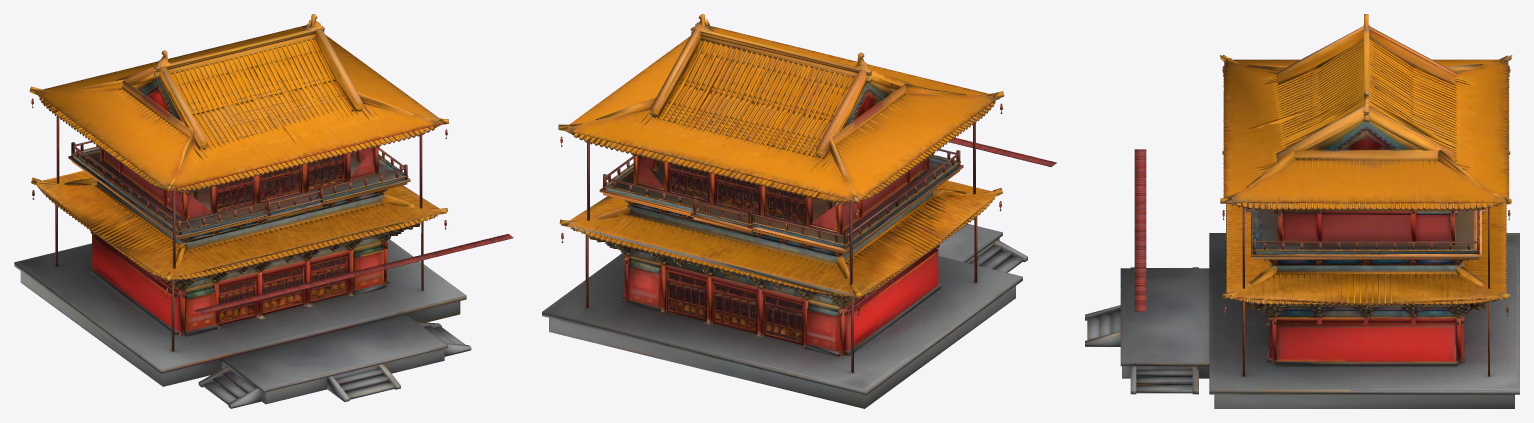
The model's file is bq_drum_tower.hd.glb.
3 views of the same model, side by side, from view 1: azimuth 30°, elevation 25°; view 2: azimuth 150°, elevation 25°; view 3: azimuth 270°, elevation 25° (orthographic). The views are drawn at different scales.
Bounding box in the file's own units: 1.78 × 1.42 × 2.
1 material, 1 textured.
